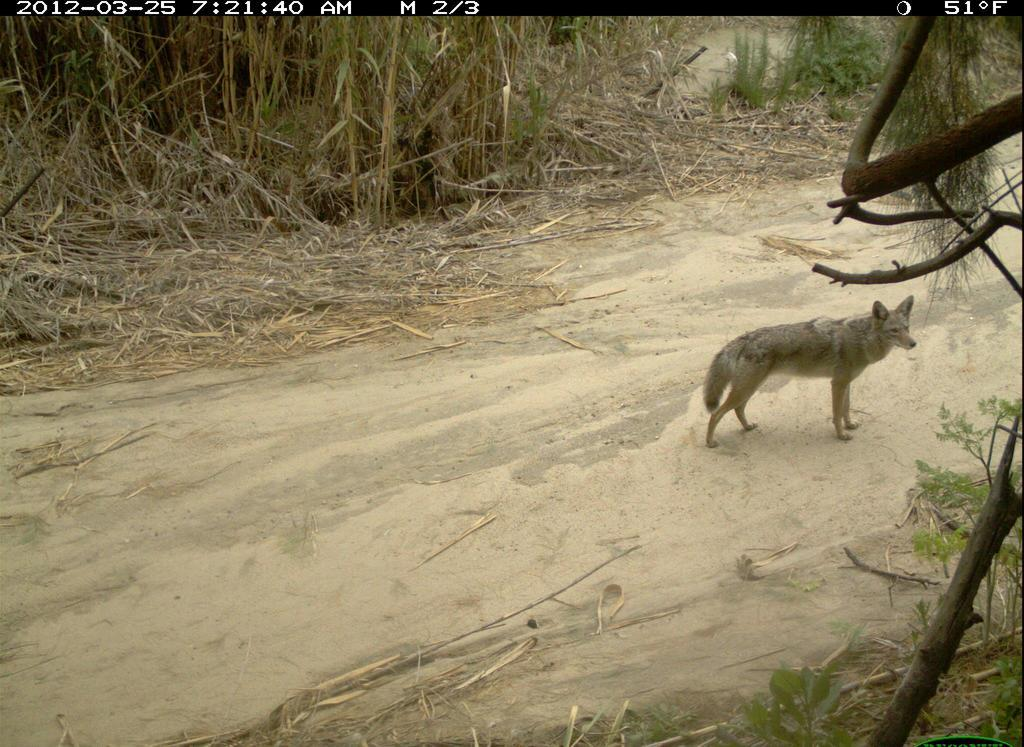coyote: (698, 292, 922, 452)
